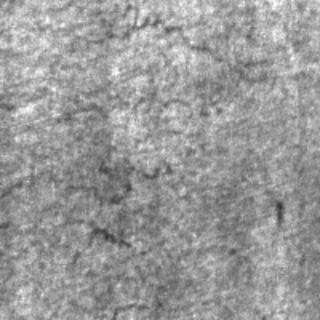crazing: (53, 2, 277, 126), (51, 148, 171, 318)
